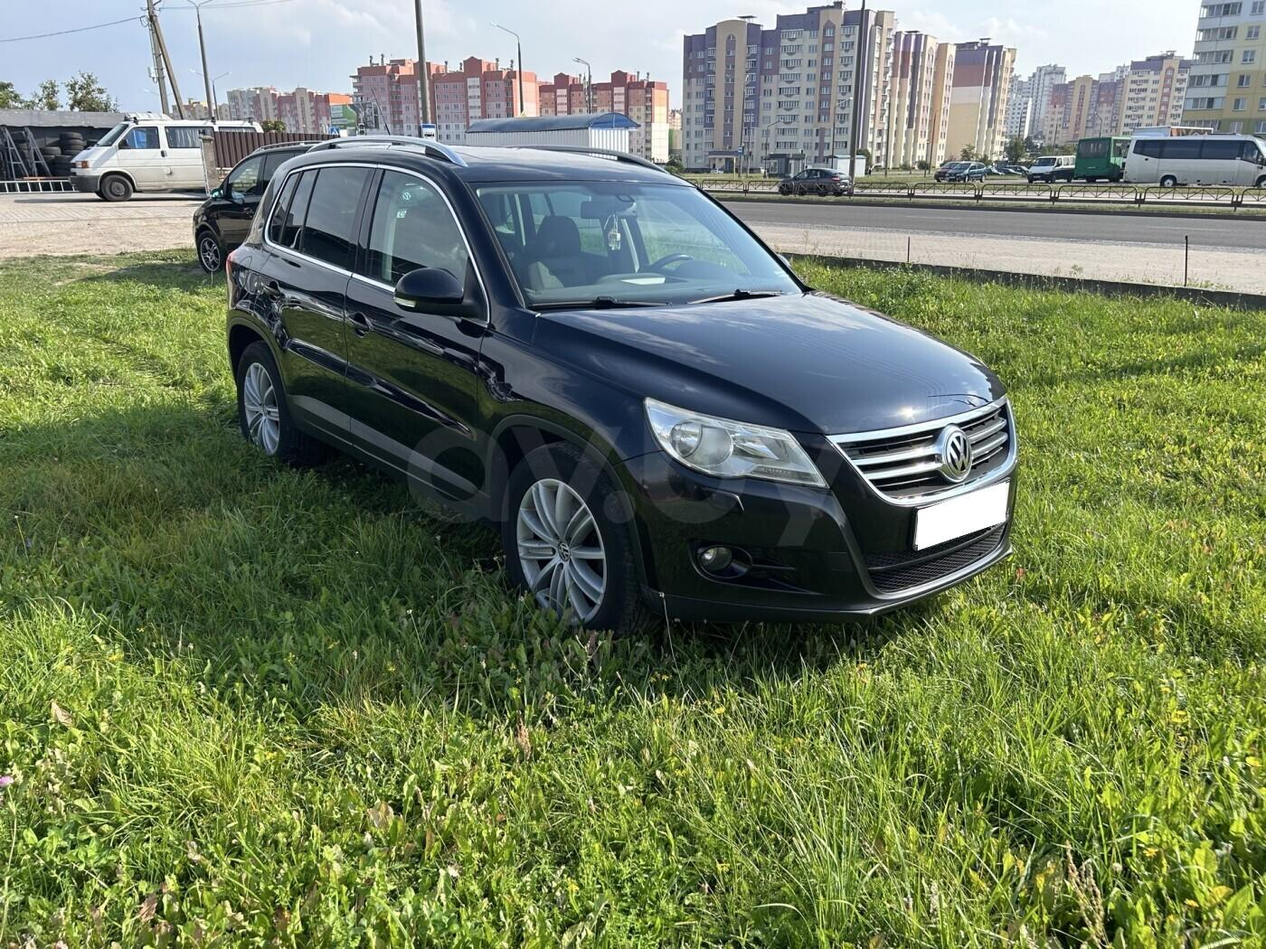Tiguan_2007-2011: (221, 139, 1024, 657)
